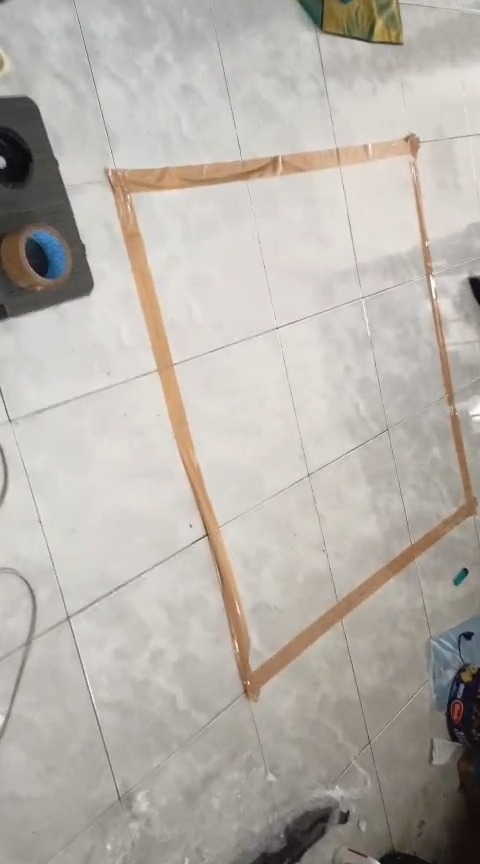floor marking: (108, 135, 476, 698)
